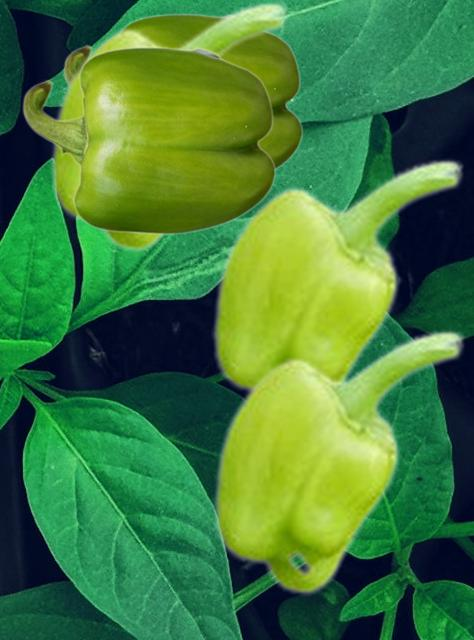bell_pepper: (212, 328, 465, 595), (211, 157, 464, 396), (49, 0, 288, 252), (22, 46, 275, 234), (63, 13, 302, 170)
